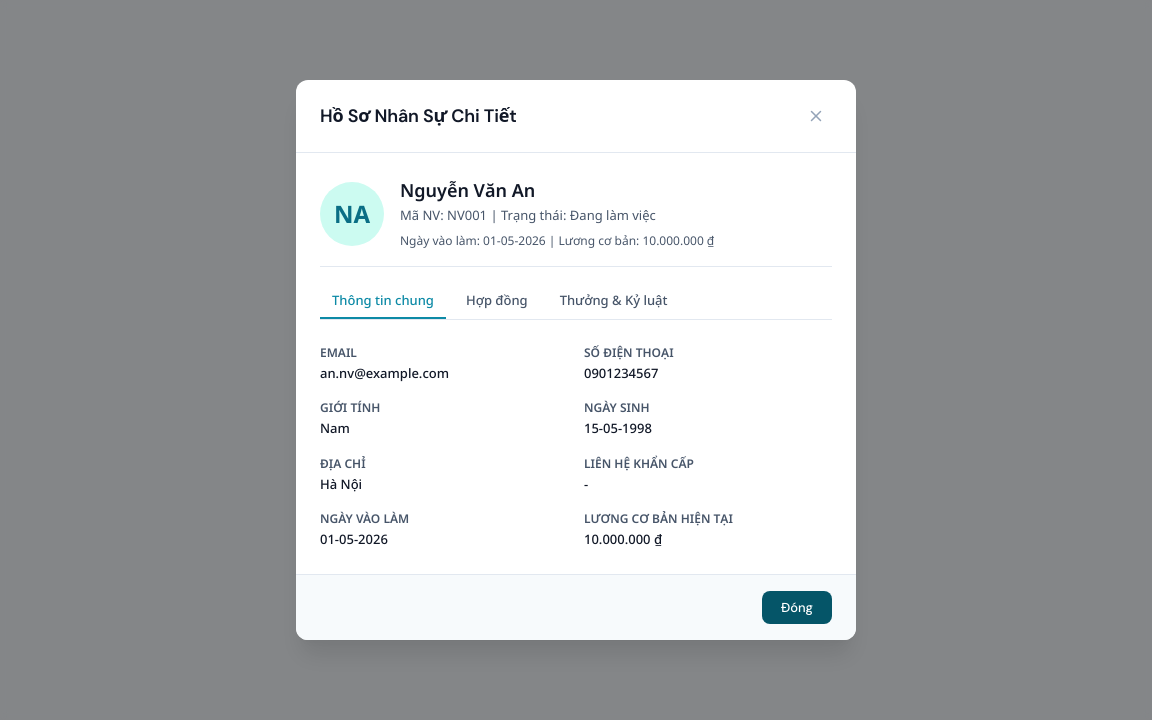
Test case: Employee Modals › EmployeeDetailsModal › renders employee profile details correctly and switches tabs
The image size is (1152, 720).
expect the heading "Hồ Sơ Nhân Sự Chi Tiết" is shown: met, box [320,105,517,128]
expect the text "Nguyễn Văn An" is shown: met, box [400,178,535,202]
# Switch to Contracts Tab
Click the button "Hợp đồng" at (497, 301), box [454,283,540,319]
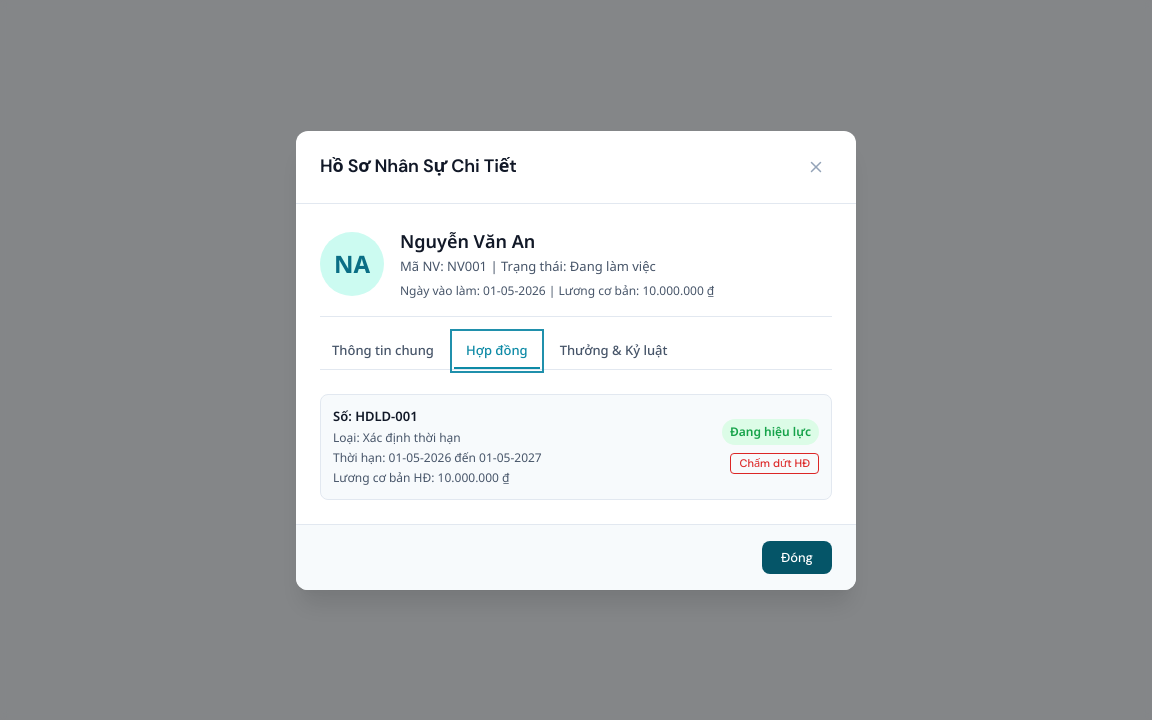
expect the text "Số: HDLD-001" is shown: met, box [333,407,418,425]
expect the text "Loại: Xác định thời hạn" is shown: met, box [333,428,461,446]
expect the text "Đang hiệu lực" is shown: met, box [722,419,819,445]
# Switch to Rewards Tab
Click the button "Thưởng & Kỷ luật" at (614, 351), box [548,333,680,369]
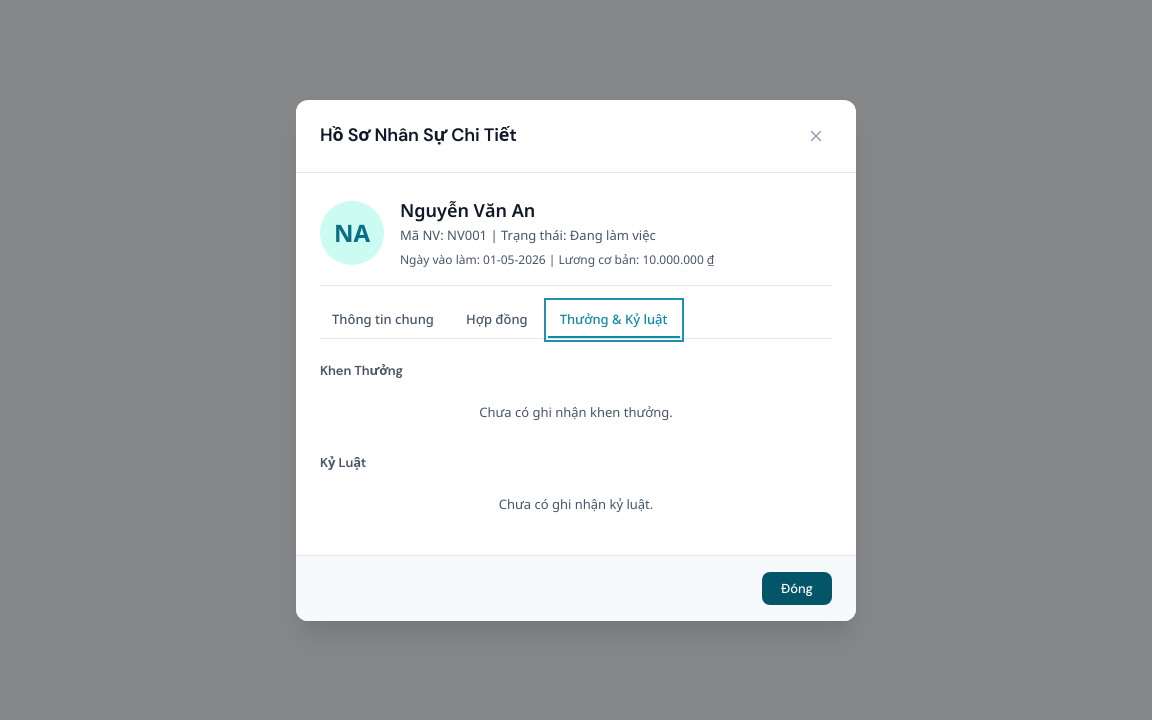
expect the heading "Khen Thưởng" is shown: met, box [320,362,403,379]
expect the heading "Kỷ Luật" is shown: met, box [320,454,366,471]
